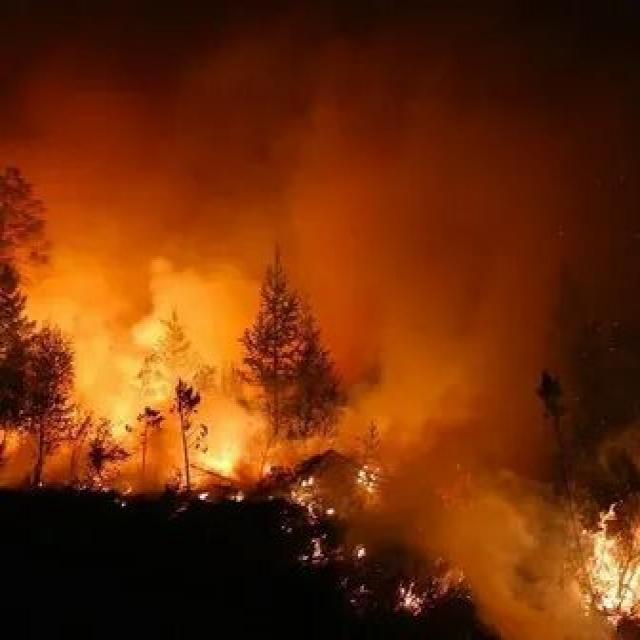Fire: (43, 271, 188, 459), (162, 345, 304, 510), (541, 437, 640, 640)
